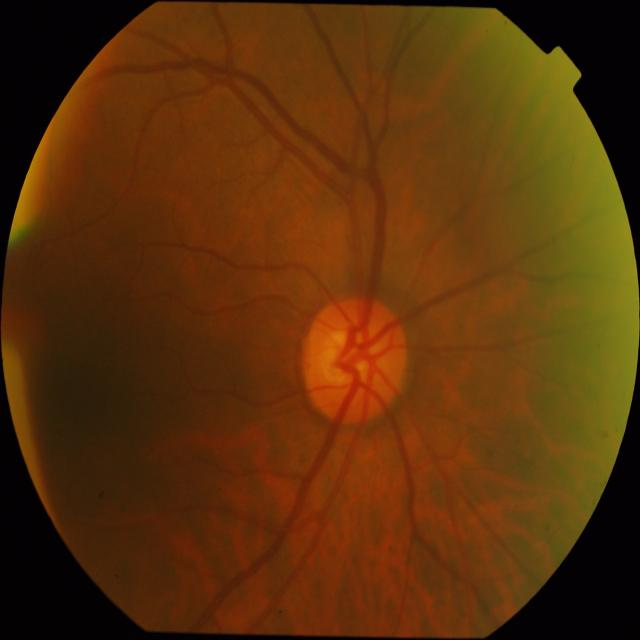OC: (318, 330, 374, 387)
OD: (300, 298, 407, 426)
